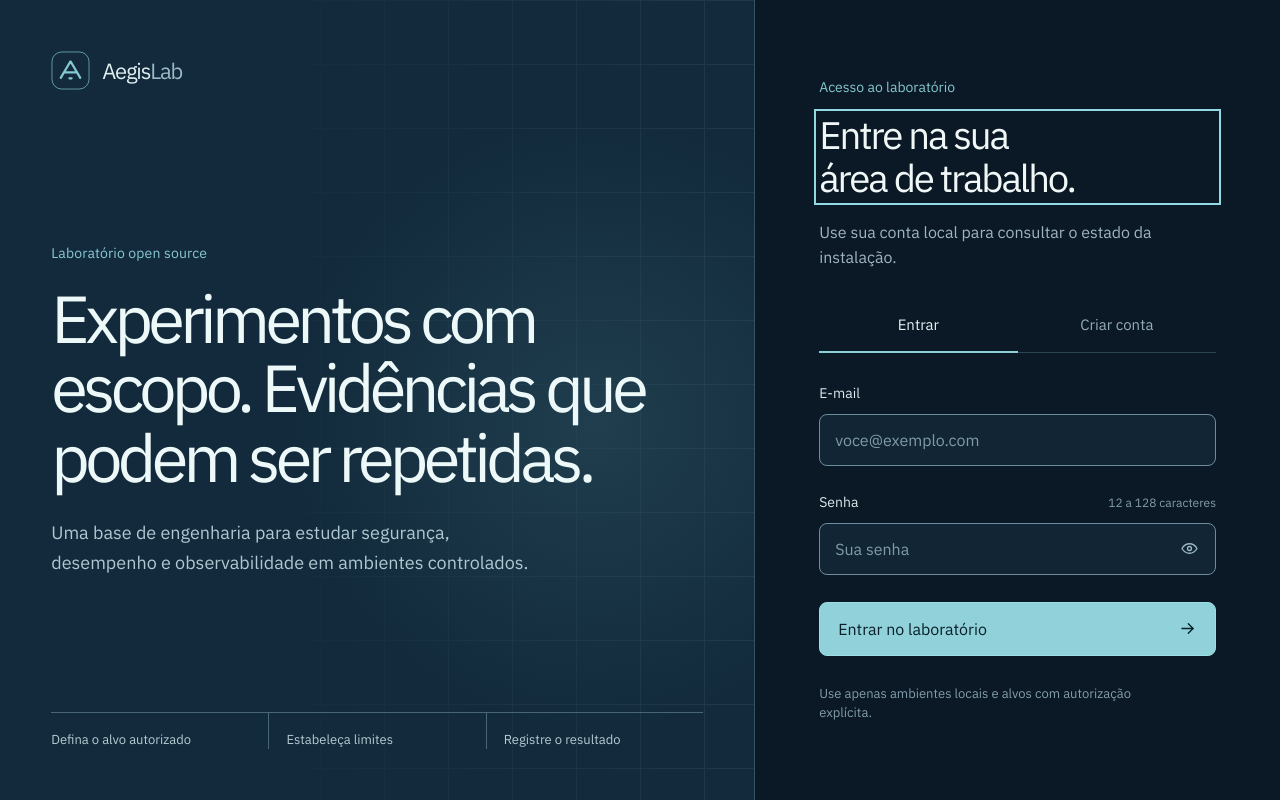
AegisLab interface › clears a login error after switching to registration
Type "analista@example.test" into the field labelled "E-mail" at [1018, 440], box [819,414,1216,466]
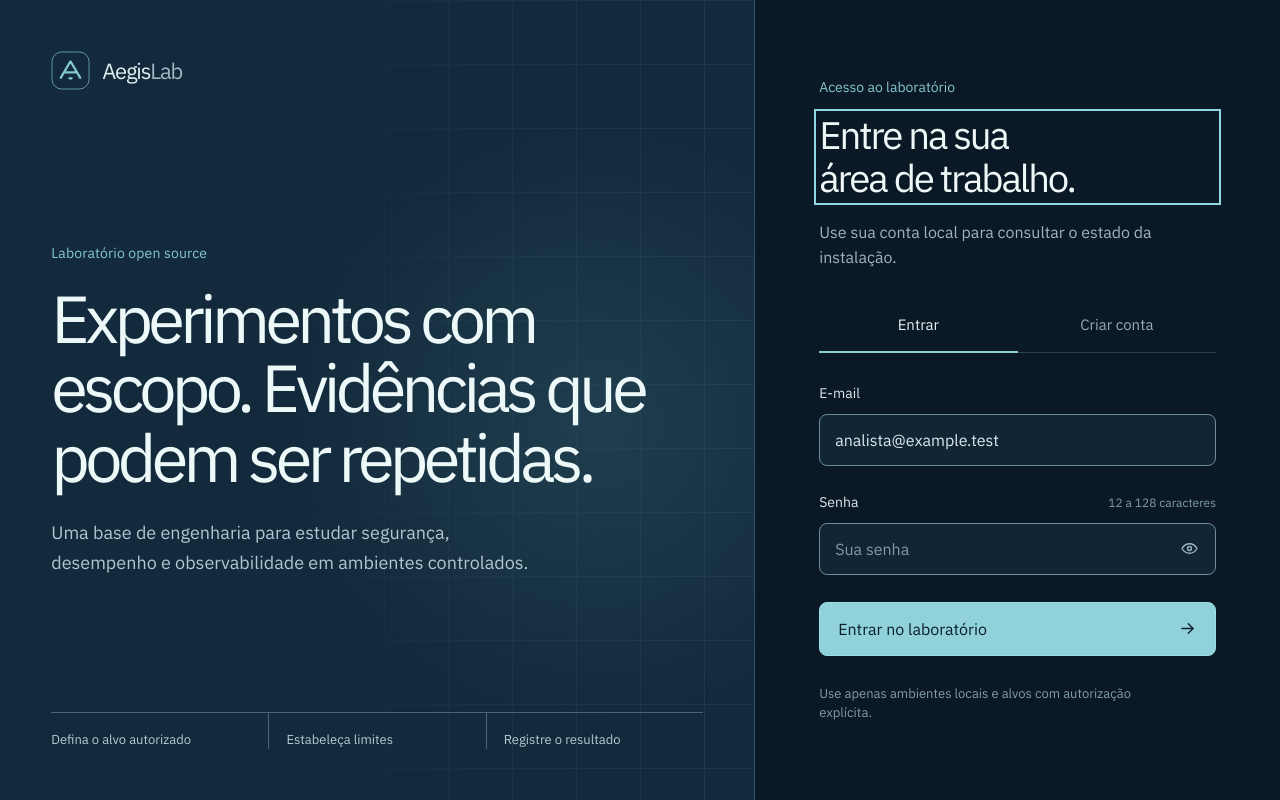
Type "strong-password-123" into the password field labelled "Senha" at [1018, 548], box [819,522,1216,574]
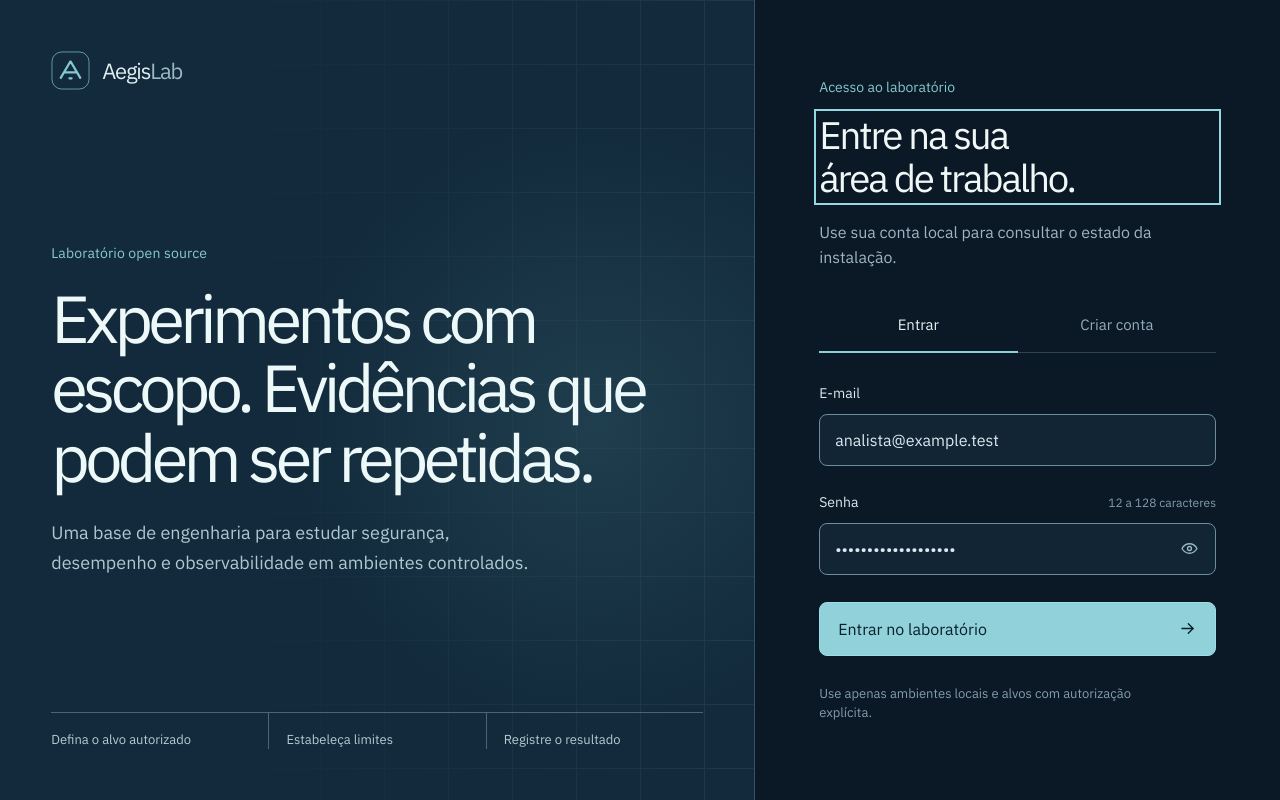
Click the button "Entrar no laboratório" at [913, 629], box [819,602,1216,656]
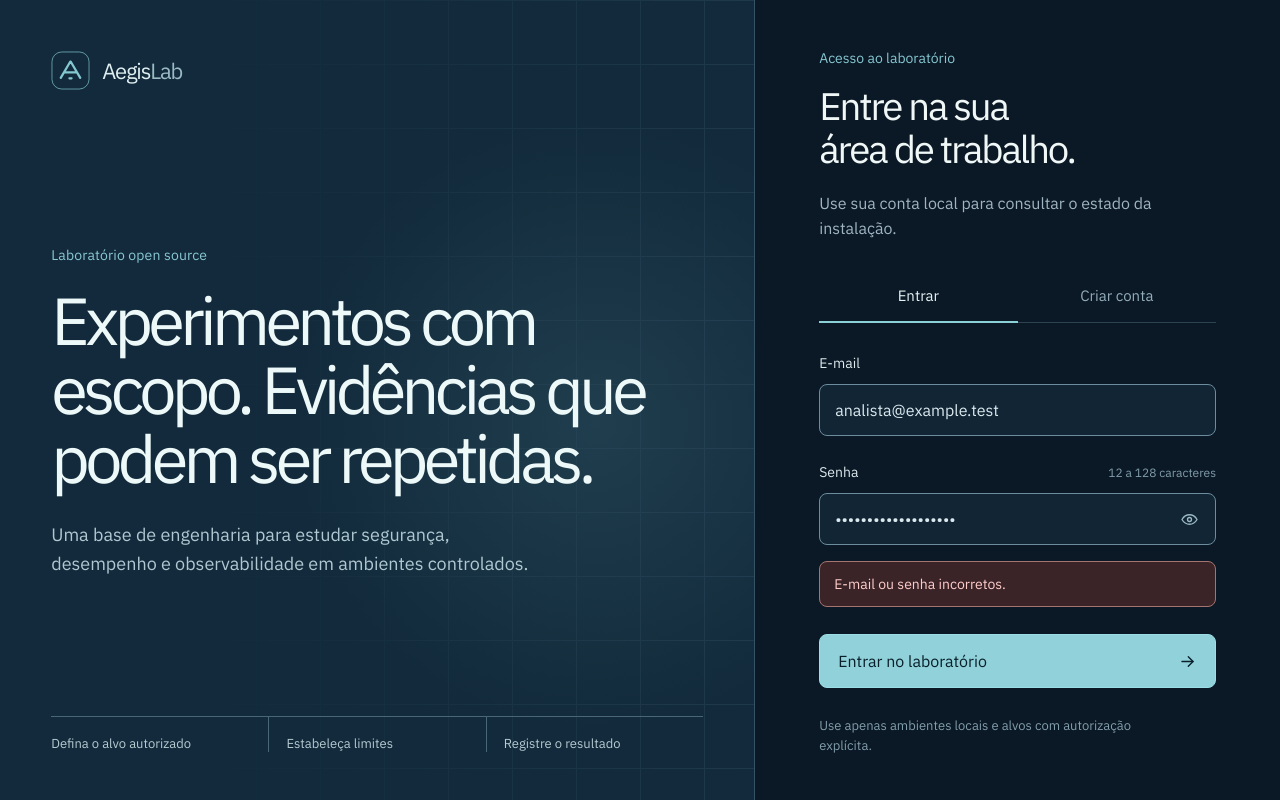
Check: the message reads "E-mail ou senha incorretos.", box [834,575,1006,593]
Click the button "Criar conta" at [1117, 297], box [1018,273,1216,322]
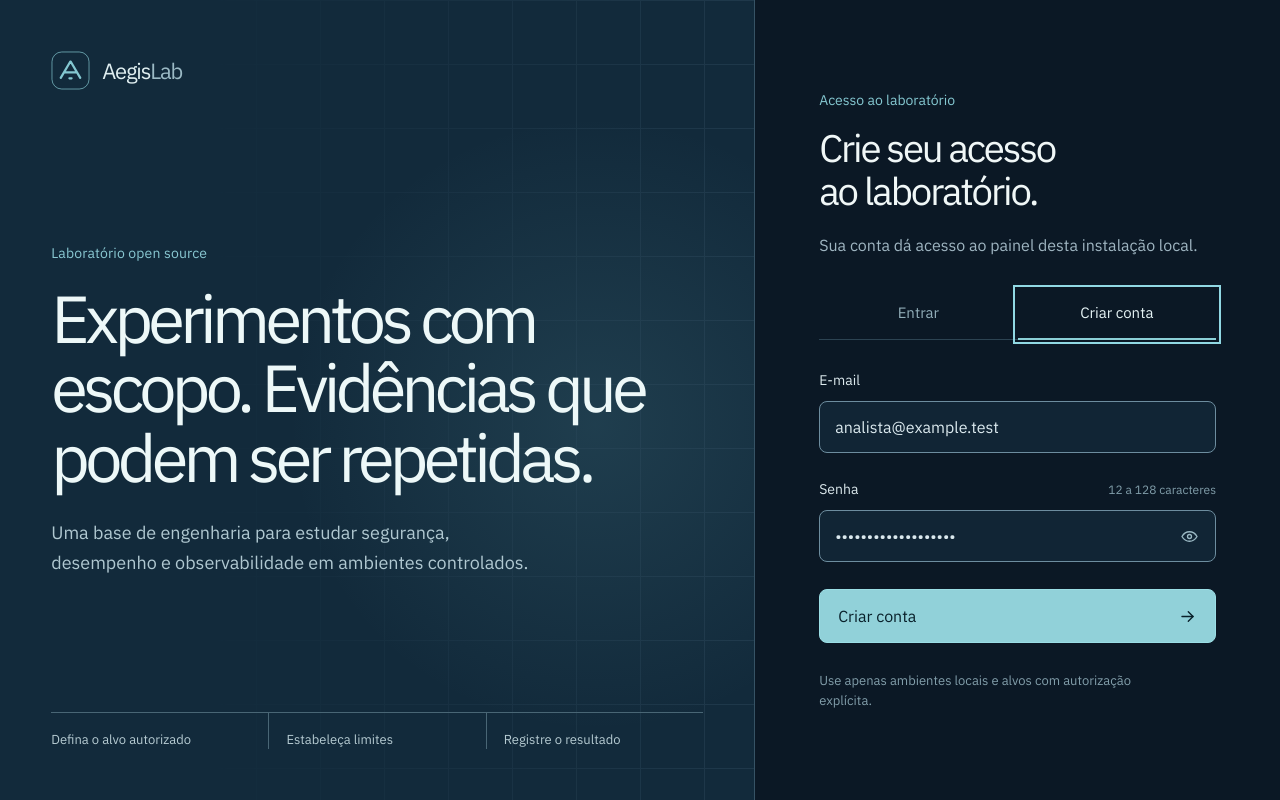
Check: the message "E-mail ou senha incorretos." is gone
